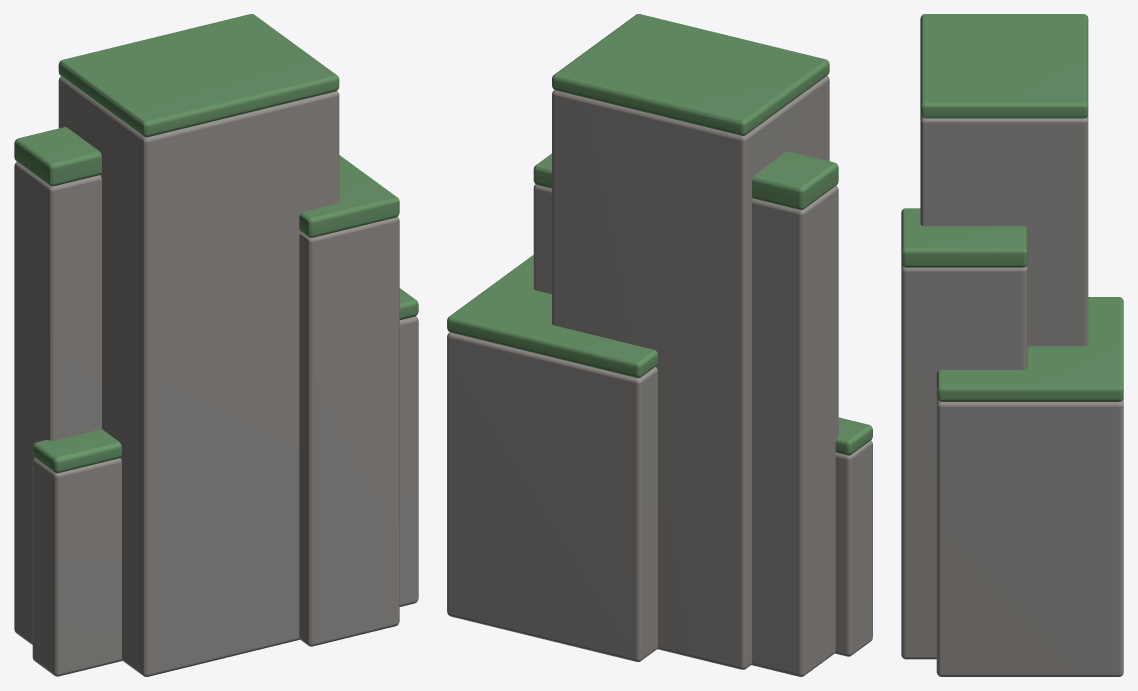
Rendered from Cliff_001.fbx.
3 renders of one model, left to right at view 1: azimuth 30°, elevation 25°; view 2: azimuth 150°, elevation 25°; view 3: azimuth 270°, elevation 25°, orthographic. The views are drawn at different scales.
Parts seen in each view (by area): view 1: Cliff_001; view 2: Cliff_001; view 3: Cliff_001.
Part boxes in pixels (x1,y1,x2,y2): Cliff_001: [14, 14, 418, 676]; Cliff_001: [447, 14, 872, 676]; Cliff_001: [901, 14, 1123, 676].
Bounding box in the file's own units: 3.88 × 5.88 × 2.22.
